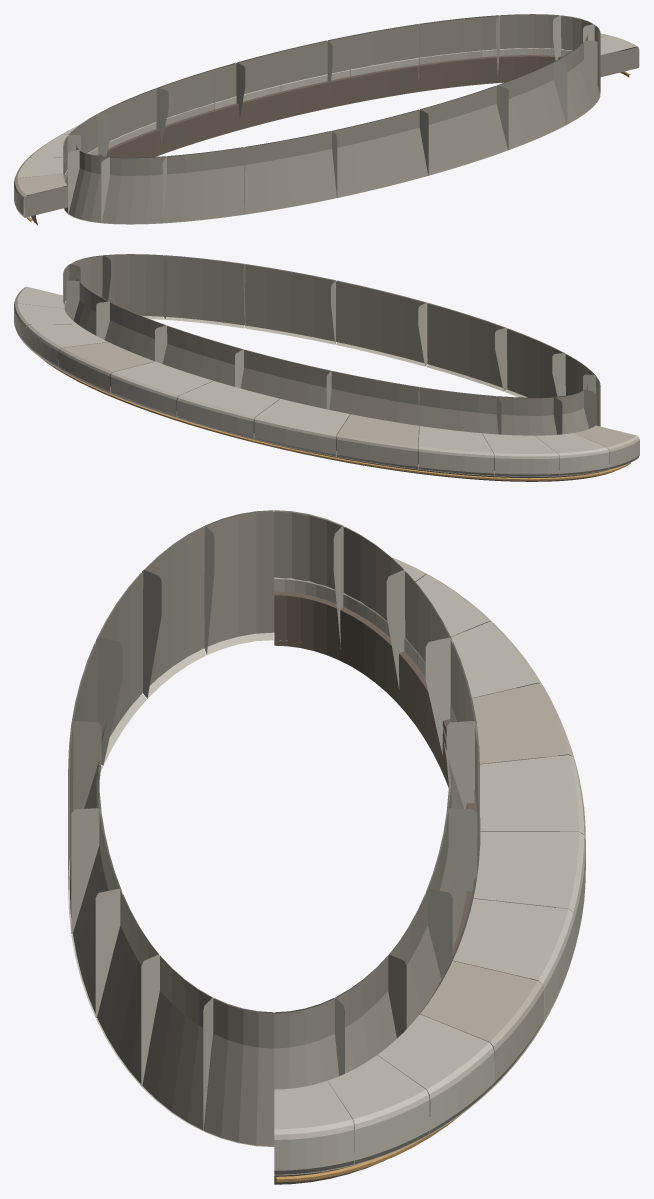
Rendered from seat.glb.
The picture shows the model from 3 angles, top to bottom: view 1: azimuth 30°, elevation 25°; view 2: azimuth 150°, elevation 25°; view 3: azimuth 270°, elevation 25°; orthographic projection. The views are drawn at different scales.
Visible parts, largest first — view 1: GoToPlazaSeat; view 2: GoToPlazaSeat; view 3: GoToPlazaSeat.
Boxes of the visible parts, box(x1,y1,x2,y2) form: GoToPlazaSeat: box(14, 14, 639, 225); GoToPlazaSeat: box(14, 254, 639, 481); GoToPlazaSeat: box(68, 510, 585, 1184).
Size of the model in its own units: 8.29 by 0.8523 by 3.02.
